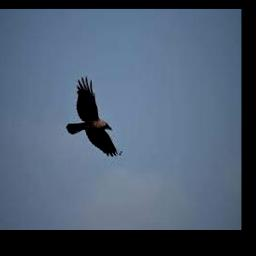Crow: (66, 76, 117, 157)
